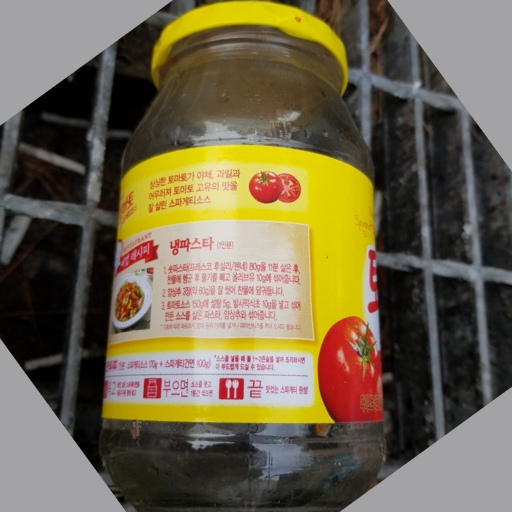Glass_5: (110, 1, 383, 512)
